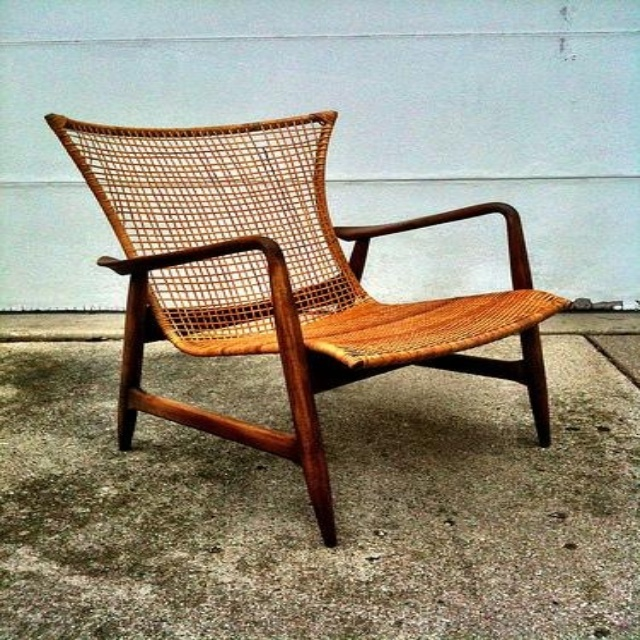obstacle: (46, 111, 567, 545)
